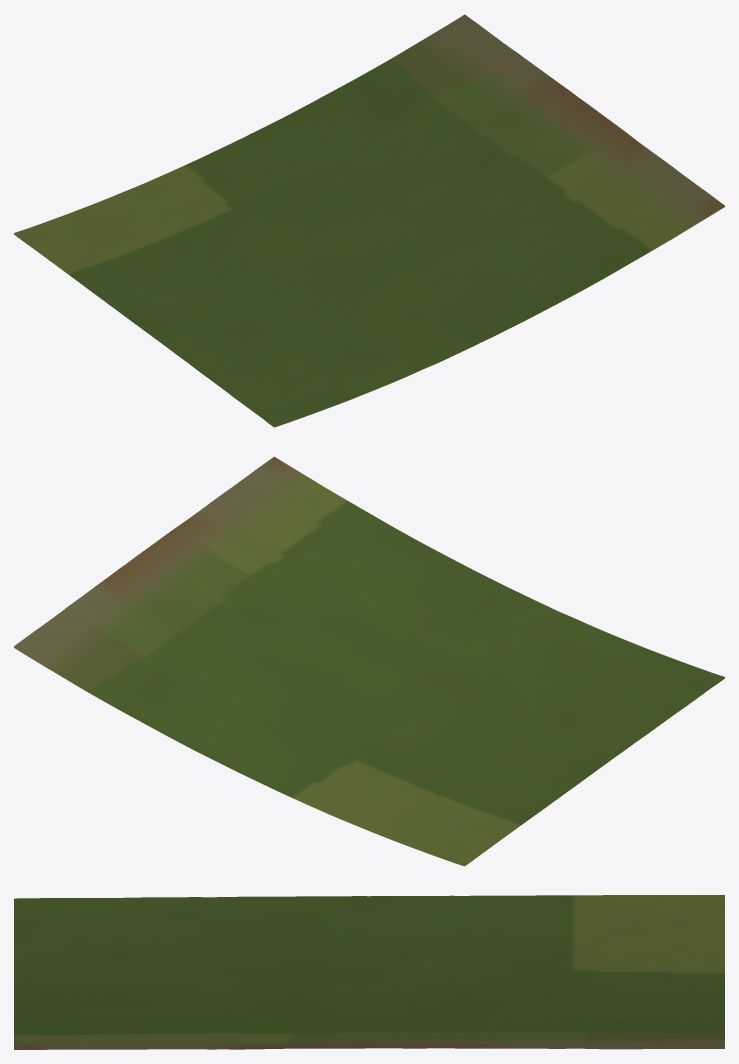
File: land_n_03_05.glb
3 renders of one model, top to bottom at view 1: azimuth 30°, elevation 25°; view 2: azimuth 150°, elevation 25°; view 3: azimuth 270°, elevation 25°, orthographic. The views are drawn at different scales.
Parts seen in each view (by area): view 1: land_n_03_05; view 2: land_n_03_05; view 3: land_n_03_05.
Part boxes in pixels (bbox=[...]): land_n_03_05: bbox=[14, 14, 724, 427]; land_n_03_05: bbox=[14, 456, 724, 866]; land_n_03_05: bbox=[14, 895, 724, 1049].
Size of the model in its own units: 480 by 115 by 480.
